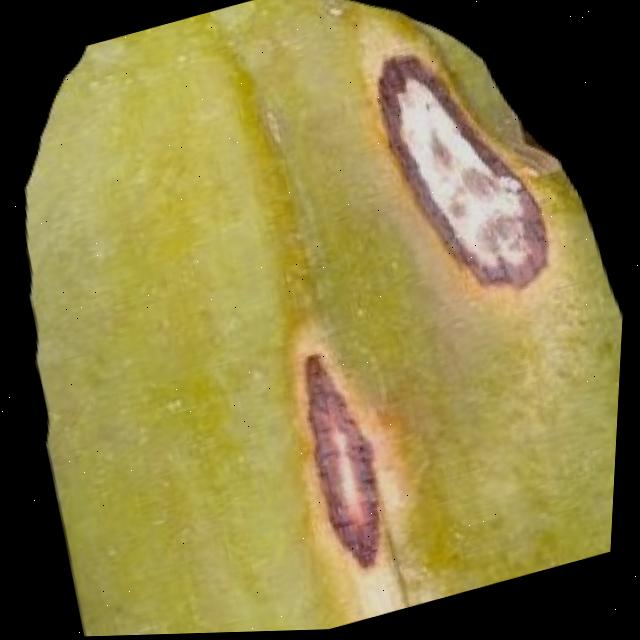mite: (232, 19, 616, 582)
sunburn: (364, 19, 566, 321)
